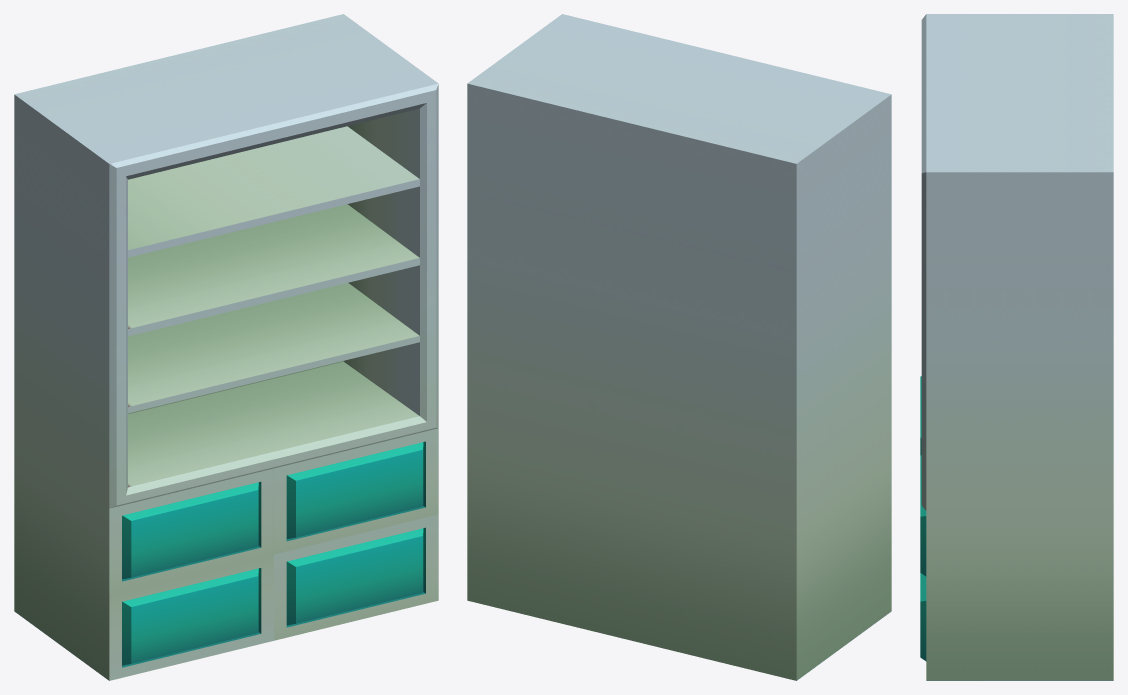
Rendered from F_MediumShelf.fbx.
3 renders of one model, left to right at view 1: azimuth 30°, elevation 25°; view 2: azimuth 150°, elevation 25°; view 3: azimuth 270°, elevation 25°, orthographic.
Parts seen in each view (by area): view 1: MediumShelfBody; view 2: MediumShelfBody; view 3: MediumShelfBody.
Part boxes in pixels (<box>): MediumShelfBody: <box>14,14,438,680</box>; MediumShelfBody: <box>467,14,891,680</box>; MediumShelfBody: <box>920,14,1113,680</box>.
Size of the model in its own units: 200 by 300 by 103.
